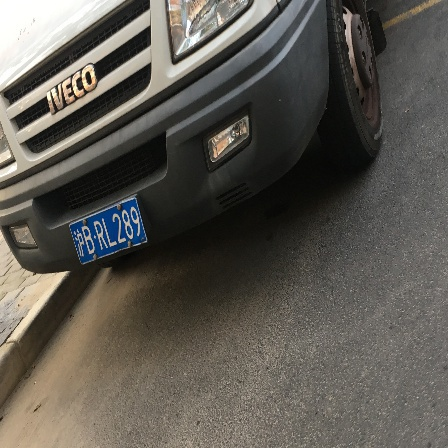plate: (64, 210, 152, 257)
